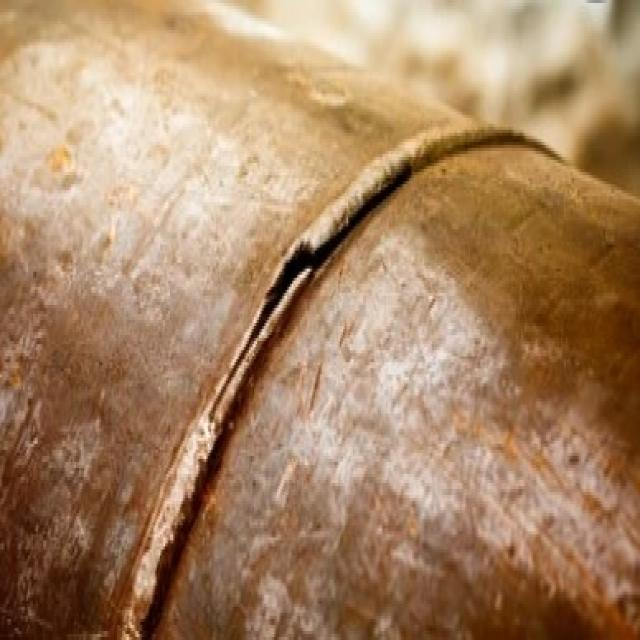Crack: (106, 110, 537, 640)
